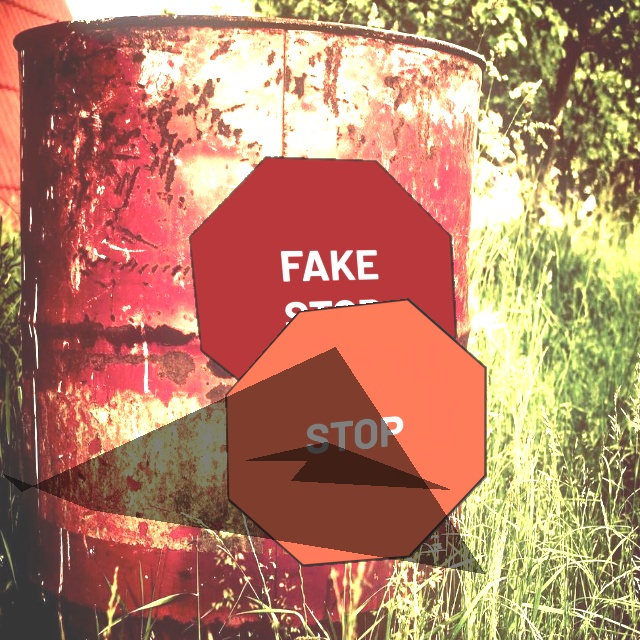FAKE_STOP: (188, 156, 457, 421)
STOP: (225, 298, 487, 567)
